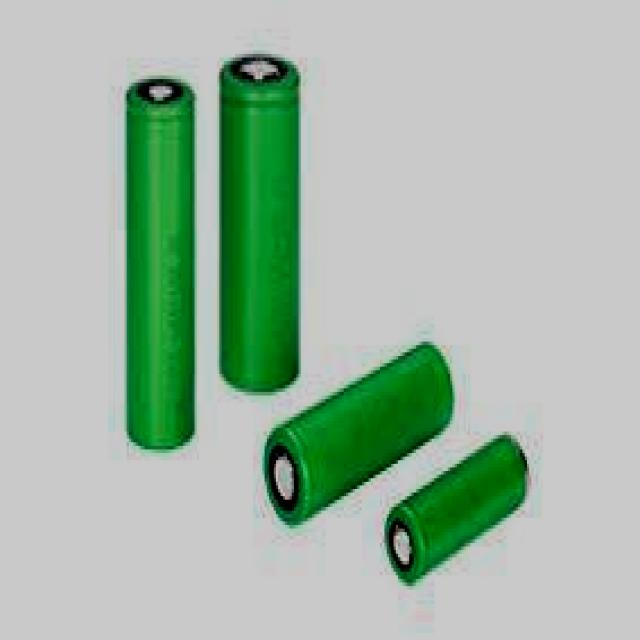AA: (123, 70, 199, 455)
